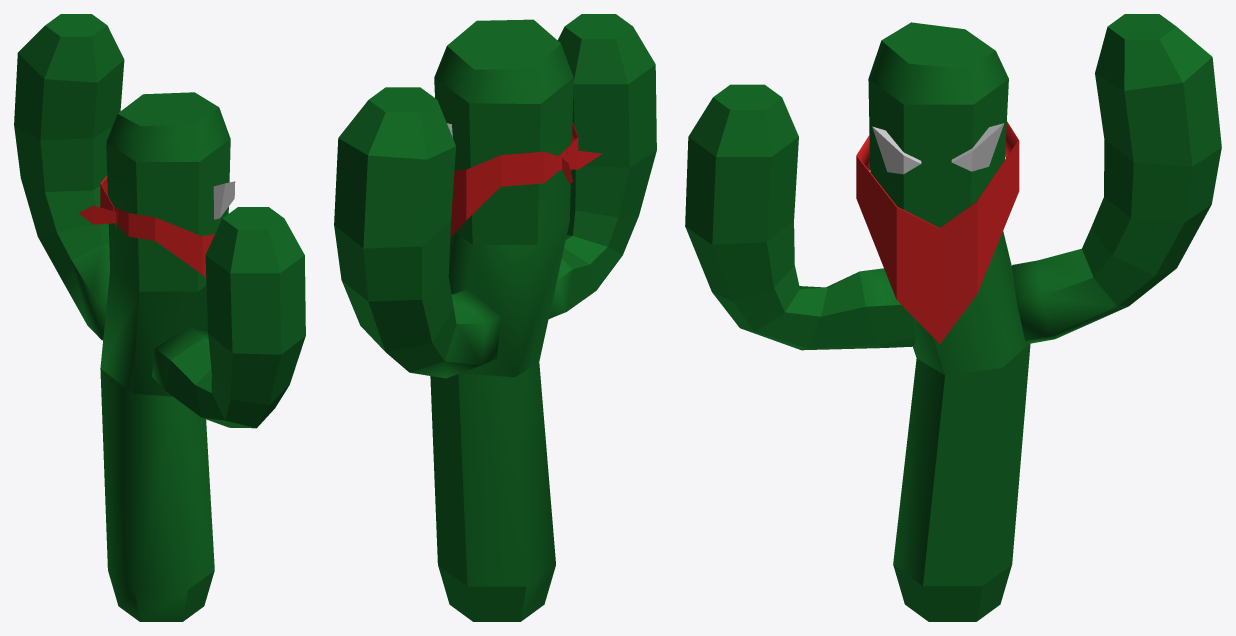
File: bez ręki menel.fbx
3 views of the same model, side by side, from view 1: azimuth 30°, elevation 25°; view 2: azimuth 150°, elevation 25°; view 3: azimuth 270°, elevation 25° (orthographic). The views are drawn at different scales.
Visible parts, largest first — view 1: Cylinder.001; view 2: Cylinder.001; view 3: Cylinder.001.
Part boxes in pixels (bbox=[...]): Cylinder.001: bbox=[14, 14, 305, 621]; Cylinder.001: bbox=[334, 14, 656, 621]; Cylinder.001: bbox=[685, 14, 1221, 621].
Bounding box in the file's own units: 277 × 1071 × 901.
